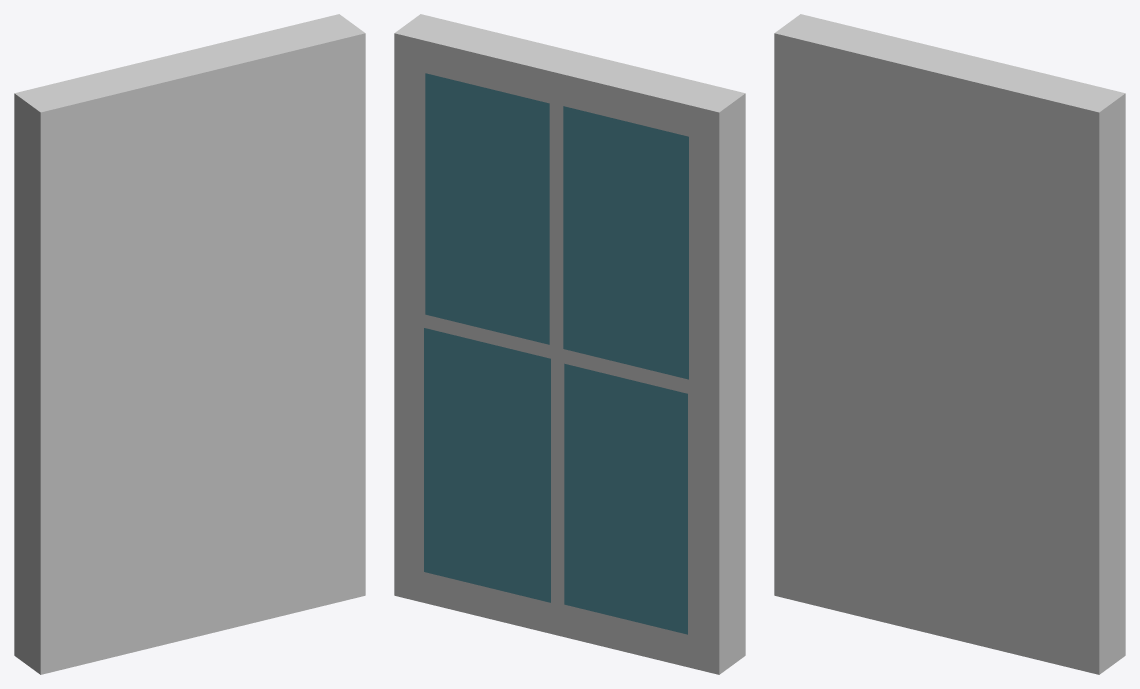
The model's file is window_1.fbx.
The picture shows the model from 3 angles, left to right: view 1: azimuth 30°, elevation 25°; view 2: azimuth 150°, elevation 25°; view 3: azimuth 330°, elevation 25°; orthographic projection.
Parts seen in each view (by area): view 1: Cube; view 2: Cube; view 3: Cube.
Boxes of the visible parts, x1=… form: Cube: x1=14, y1=14, x2=365, y2=674; Cube: x1=394, y1=14, x2=745, y2=674; Cube: x1=774, y1=14, x2=1125, y2=674.
Bounding box in the file's own units: 159 × 263 × 22.26.
